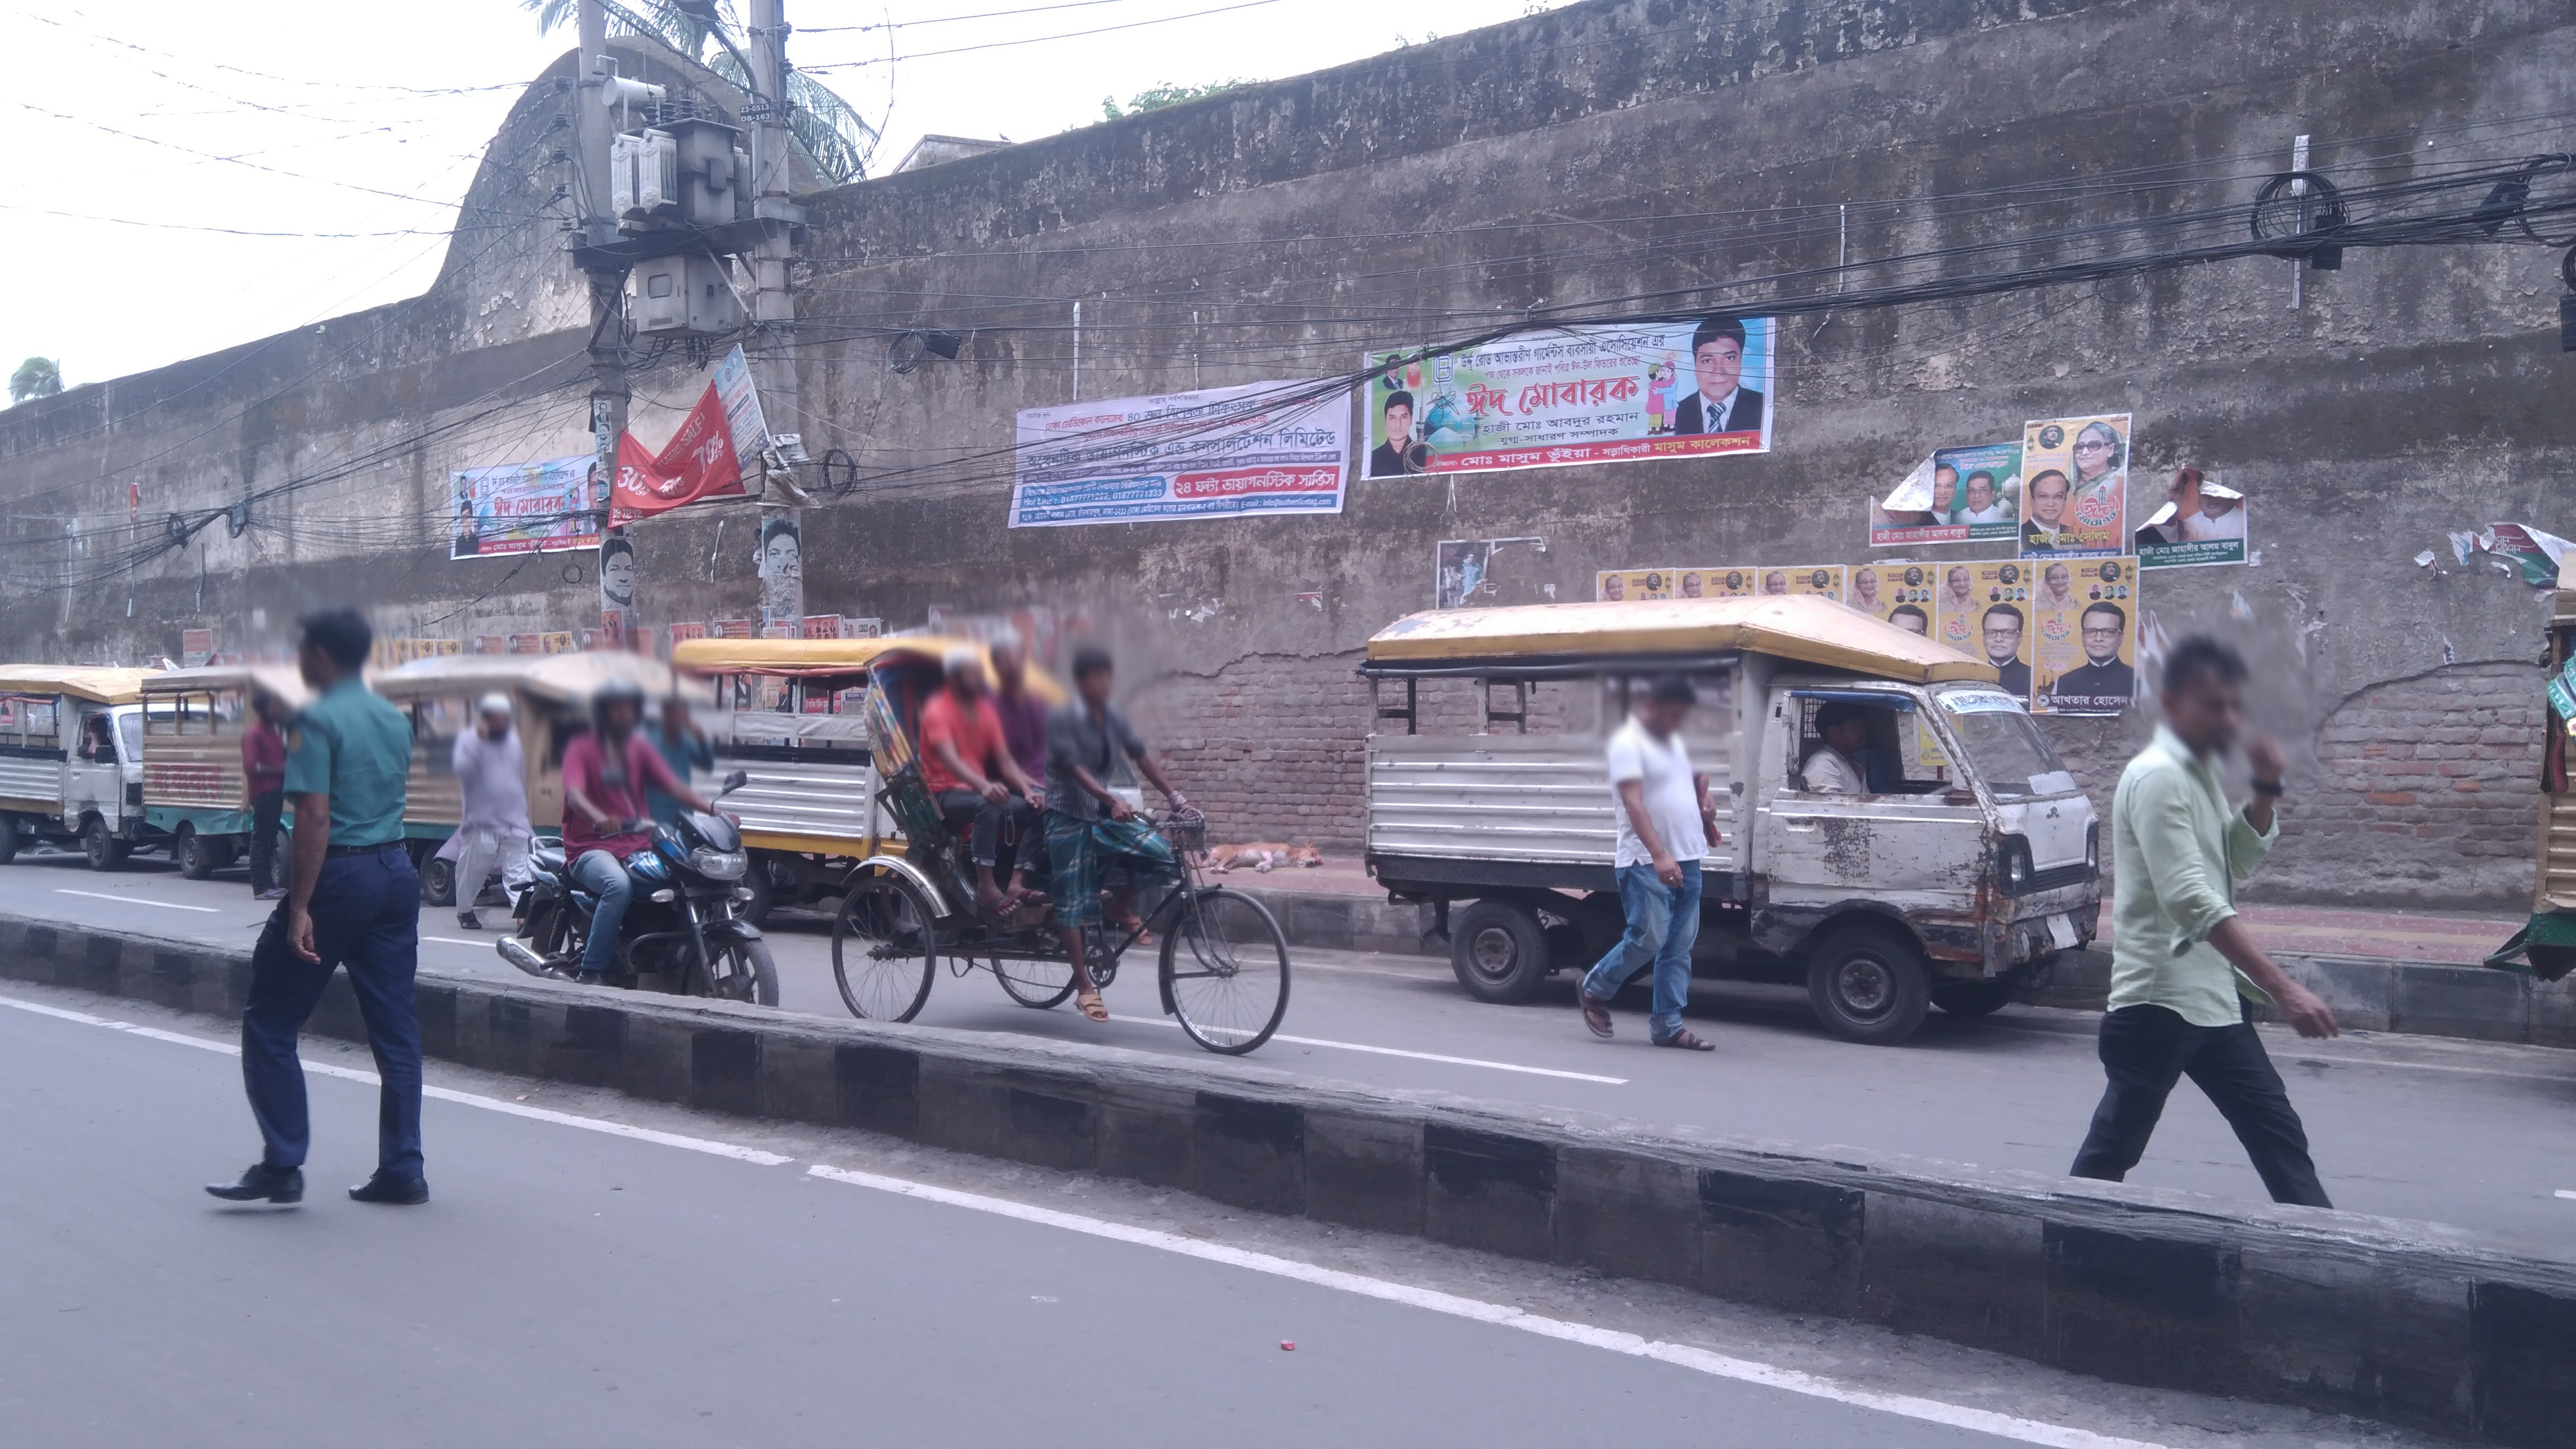bike: (499, 823, 791, 1014)
leguna: (1366, 589, 2104, 1063), (655, 623, 1125, 931), (356, 617, 725, 893), (0, 625, 239, 888), (145, 651, 395, 899)
rickshaw: (832, 633, 1306, 1067)
